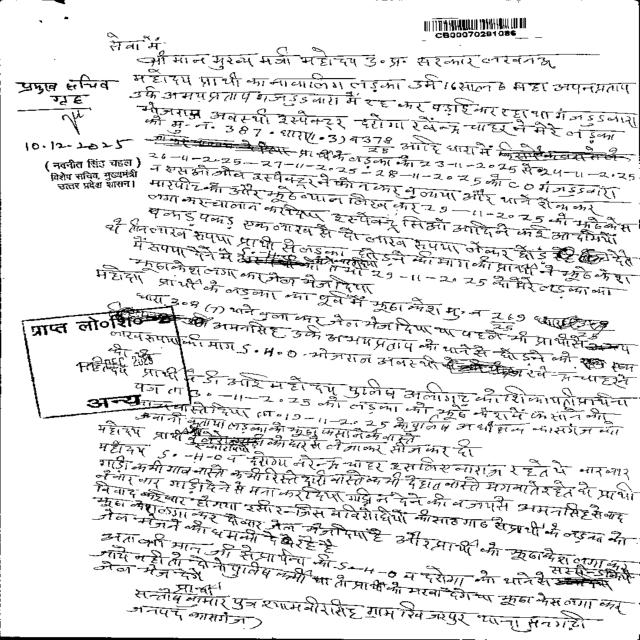antritgovtstamp: (12, 306, 199, 420)
barcode: (423, 15, 532, 42)
